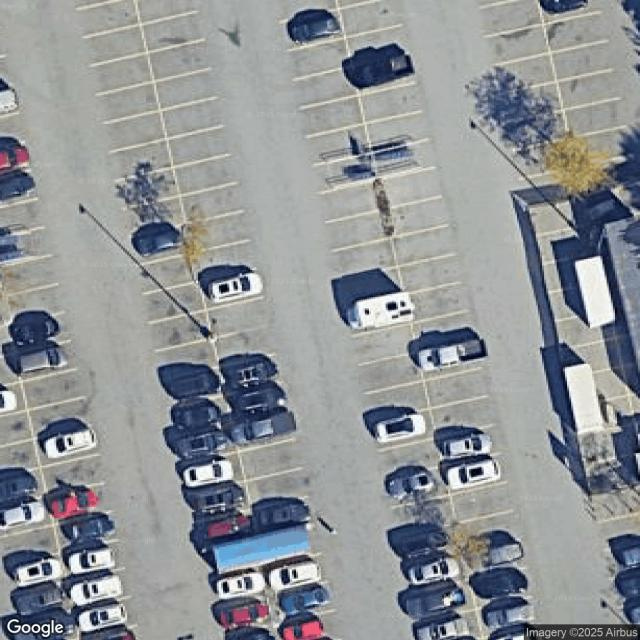car: (230, 408, 299, 453), (418, 336, 489, 376), (205, 268, 264, 308), (233, 379, 290, 420), (354, 52, 415, 89), (226, 352, 281, 393), (8, 580, 66, 614), (200, 511, 256, 546), (65, 544, 119, 580), (213, 597, 271, 630), (258, 500, 316, 533), (176, 428, 234, 461), (134, 225, 187, 260), (199, 482, 246, 521), (166, 368, 219, 402), (375, 411, 426, 445), (291, 12, 342, 45), (405, 615, 474, 639), (174, 402, 223, 435), (447, 459, 502, 488), (277, 582, 326, 614), (386, 468, 434, 500), (56, 516, 116, 541), (0, 469, 39, 506), (477, 571, 530, 598), (400, 590, 465, 612), (69, 577, 126, 602), (184, 460, 232, 489), (44, 431, 98, 456), (49, 488, 99, 515), (218, 574, 266, 602), (408, 558, 454, 587), (445, 433, 495, 458), (17, 346, 66, 371), (13, 560, 57, 587), (8, 317, 62, 339), (1, 135, 34, 171), (80, 606, 129, 630), (4, 502, 44, 528), (486, 606, 533, 628), (0, 168, 34, 198), (282, 619, 326, 640), (538, 1, 589, 14), (619, 542, 639, 570), (0, 390, 16, 418)
lot_boundary: (1, 0, 639, 639)
objects: (205, 521, 325, 576), (345, 291, 417, 339)
